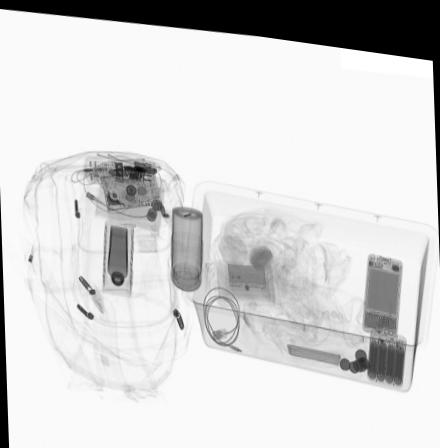Powerbank: (365, 318, 403, 375)
